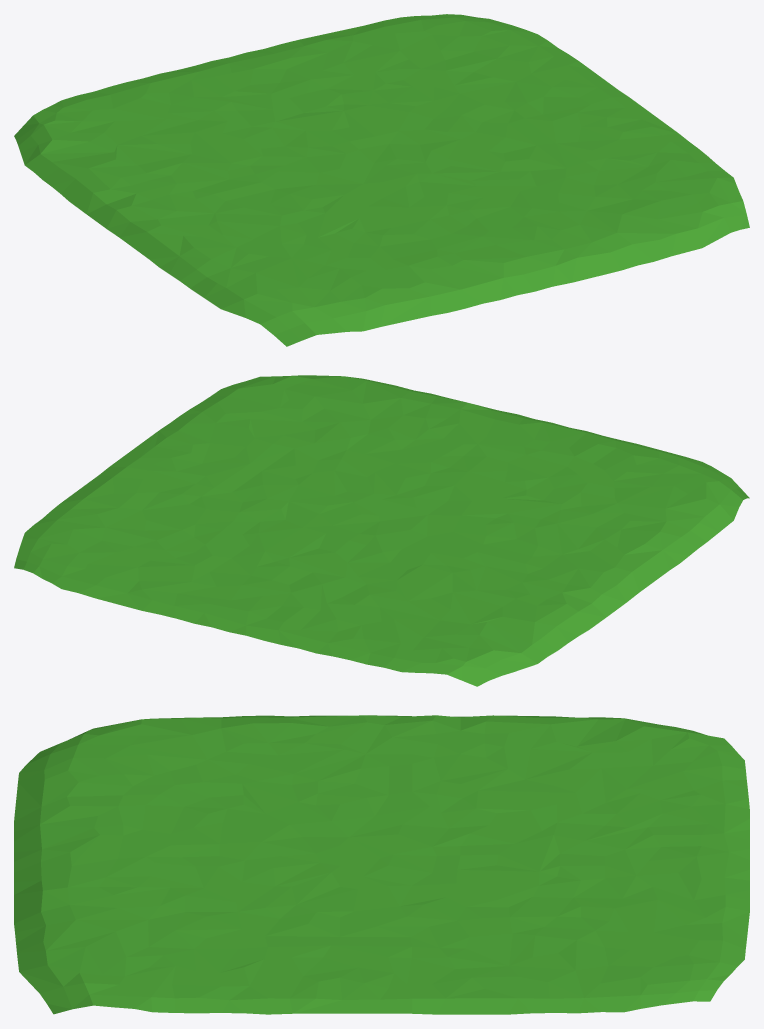
File: land.fbx
3 views of the same model, one above another, from view 1: azimuth 30°, elevation 25°; view 2: azimuth 150°, elevation 25°; view 3: azimuth 270°, elevation 25° (orthographic). The views are drawn at different scales.
Visible parts, largest first — view 1: greenland; view 2: greenland; view 3: greenland.
Part boxes in pixels (x1,y1,x2,y2): greenland: (14,14,749,346); greenland: (14,375,749,686); greenland: (14,715,749,1014).
Size of the model in its own units: 10002 by 466 by 10179.
